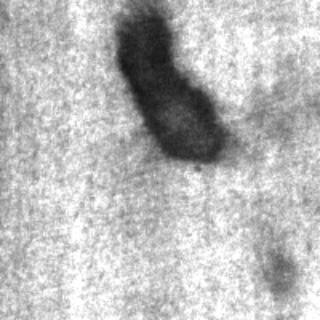patches: (111, 5, 227, 161)
